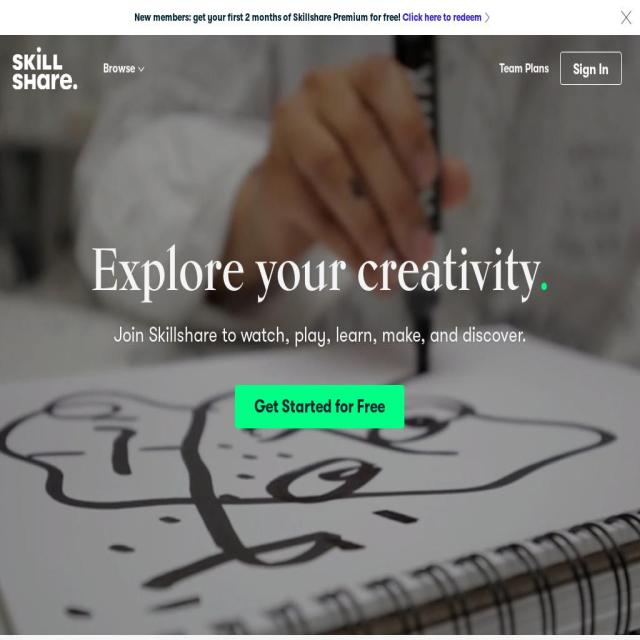button: (120, 0, 520, 35), (235, 385, 405, 428), (560, 52, 622, 85), (103, 60, 145, 77)
heading: (90, 232, 539, 304), (48, 322, 592, 348), (538, 232, 550, 304)
image: (0, 35, 640, 635), (12, 47, 78, 90), (482, 11, 492, 24), (621, 11, 631, 24), (137, 64, 145, 74)
link: (499, 61, 549, 76)
text: (134, 10, 402, 25), (402, 10, 482, 25), (103, 60, 135, 77)
